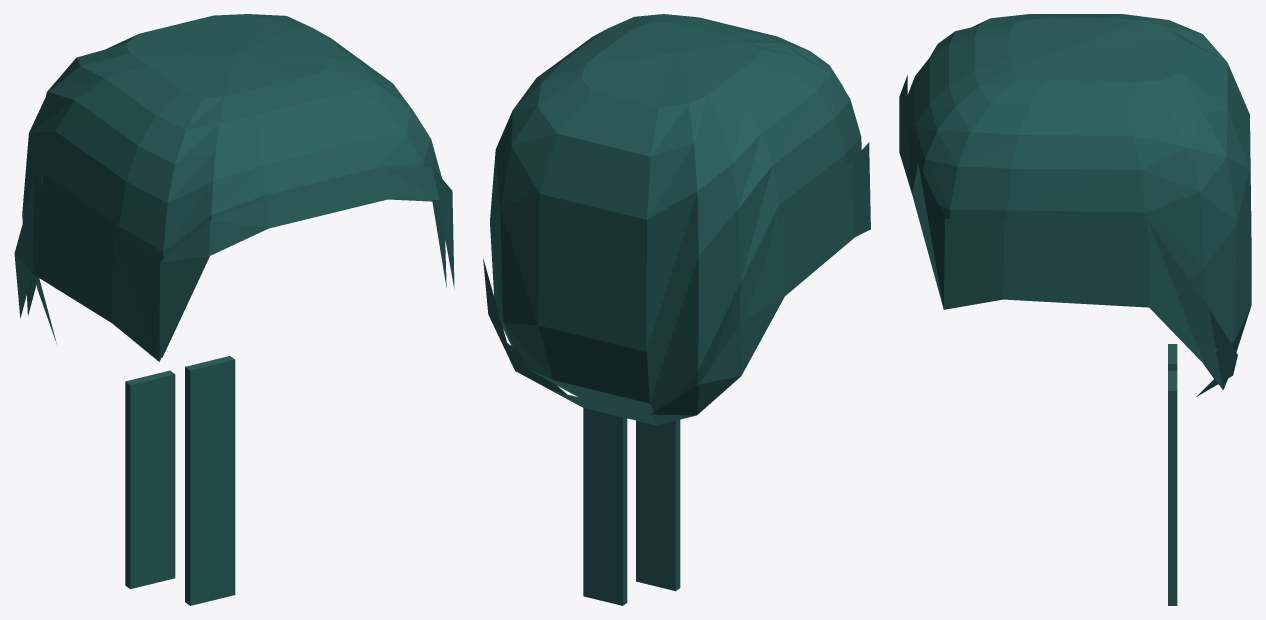
Rendered from headwear-durag.high.bfec922f.glb.
3 views of the same model, side by side, from view 1: azimuth 30°, elevation 25°; view 2: azimuth 150°, elevation 25°; view 3: azimuth 270°, elevation 25° (orthographic). The views are drawn at different scales.
Parts seen in each view (by area): view 1: headwear-durag; view 2: headwear-durag; view 3: headwear-durag.
Part boxes in pixels (x1=…): headwear-durag: x1=14, y1=14, x2=454, y2=605; headwear-durag: x1=483, y1=14, x2=870, y2=605; headwear-durag: x1=899, y1=14, x2=1251, y2=605.
Size of the model in its own units: 0.2164 by 0.3747 by 0.2226.
